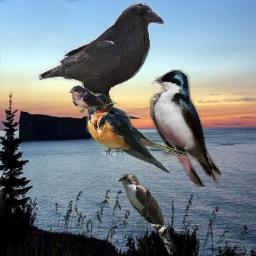Crow: (37, 1, 165, 119)
Cuckoo: (117, 174, 178, 255)
Swallow: (149, 69, 222, 187), (86, 93, 191, 173), (69, 85, 106, 113)
